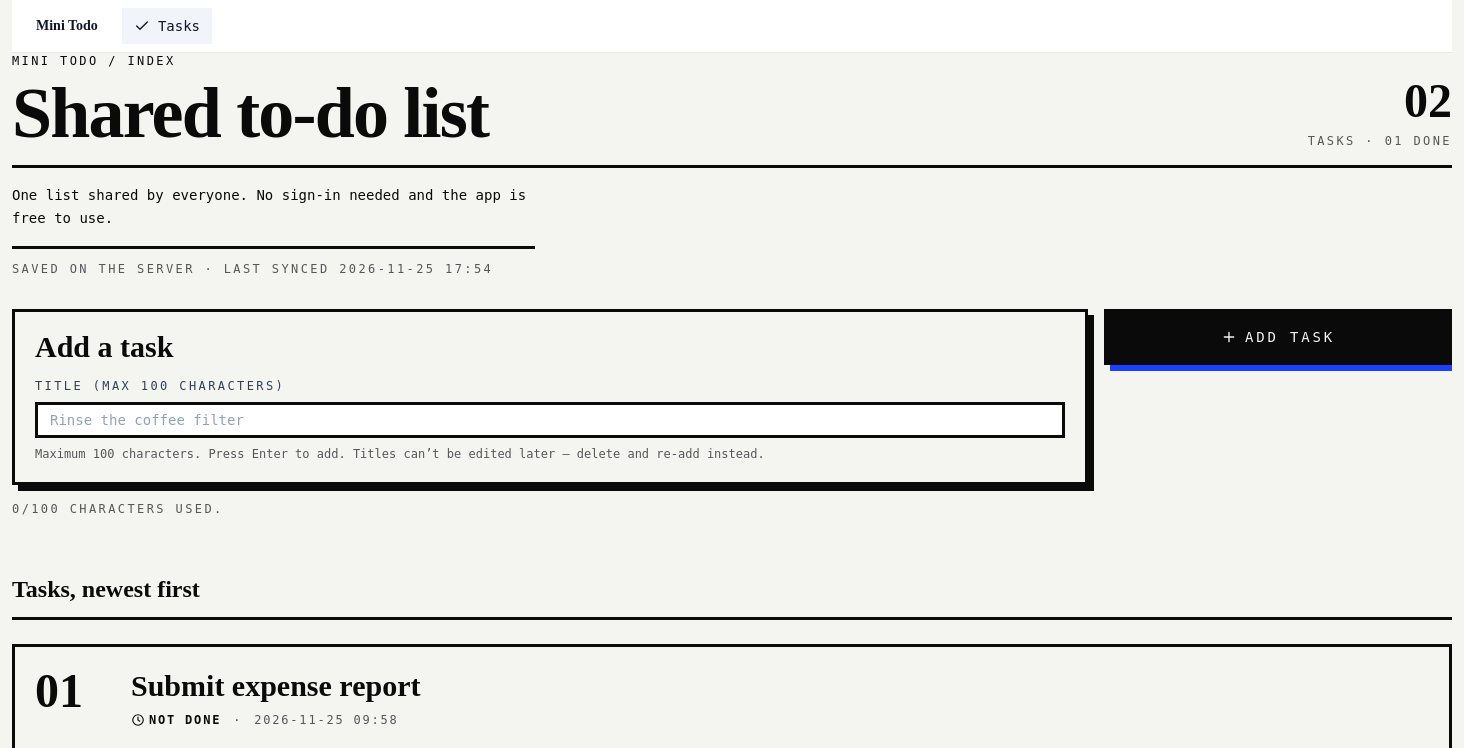
Test: App — anonymous access with no sign-in › [AC-022] adds a task immediately on the first visit with no account
Type "Refill the printer" into the field with test id "title-max-100-characters-input". click: (550, 420)
box: left=35, top=402, right=1065, bottom=438
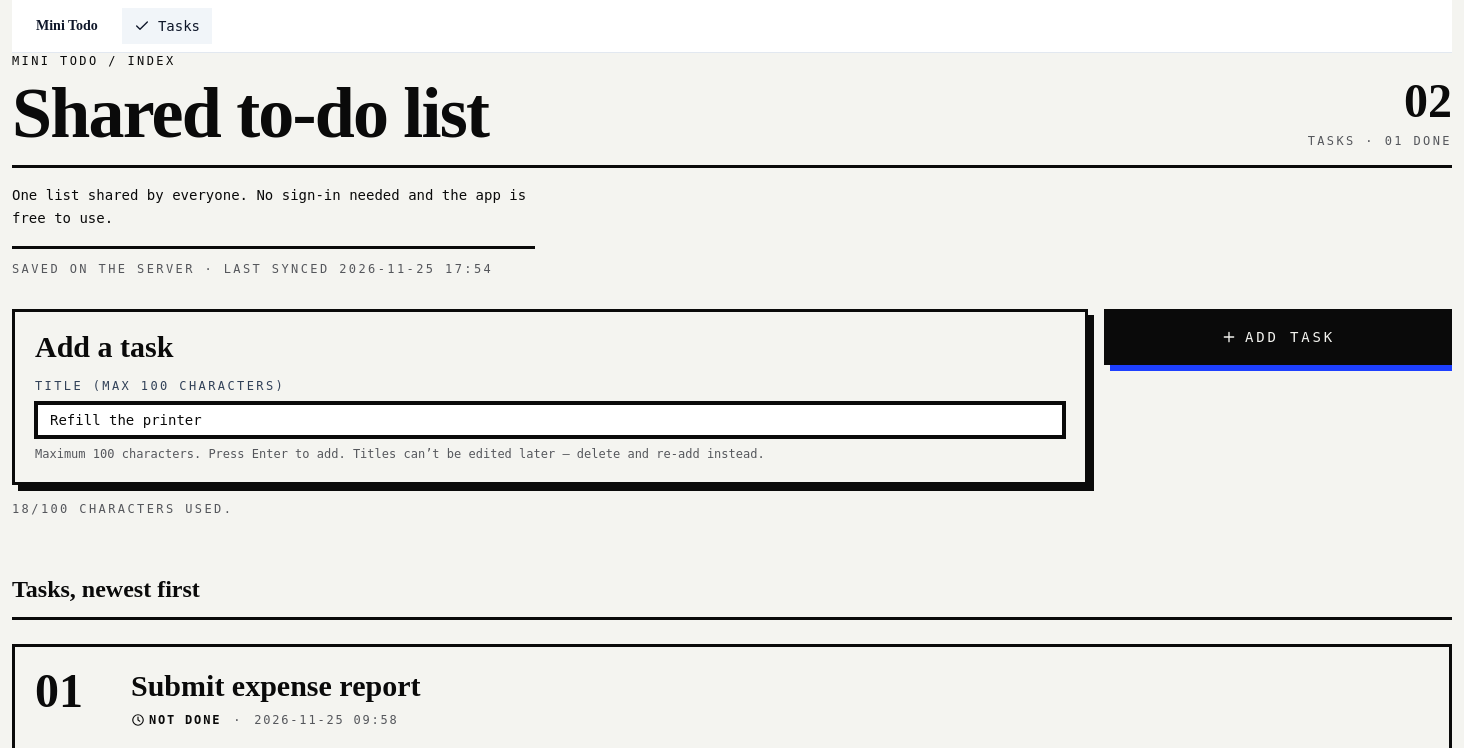
Click the button with test id "add-task-btn". click: (1278, 336)
box: left=1104, top=308, right=1452, bottom=364
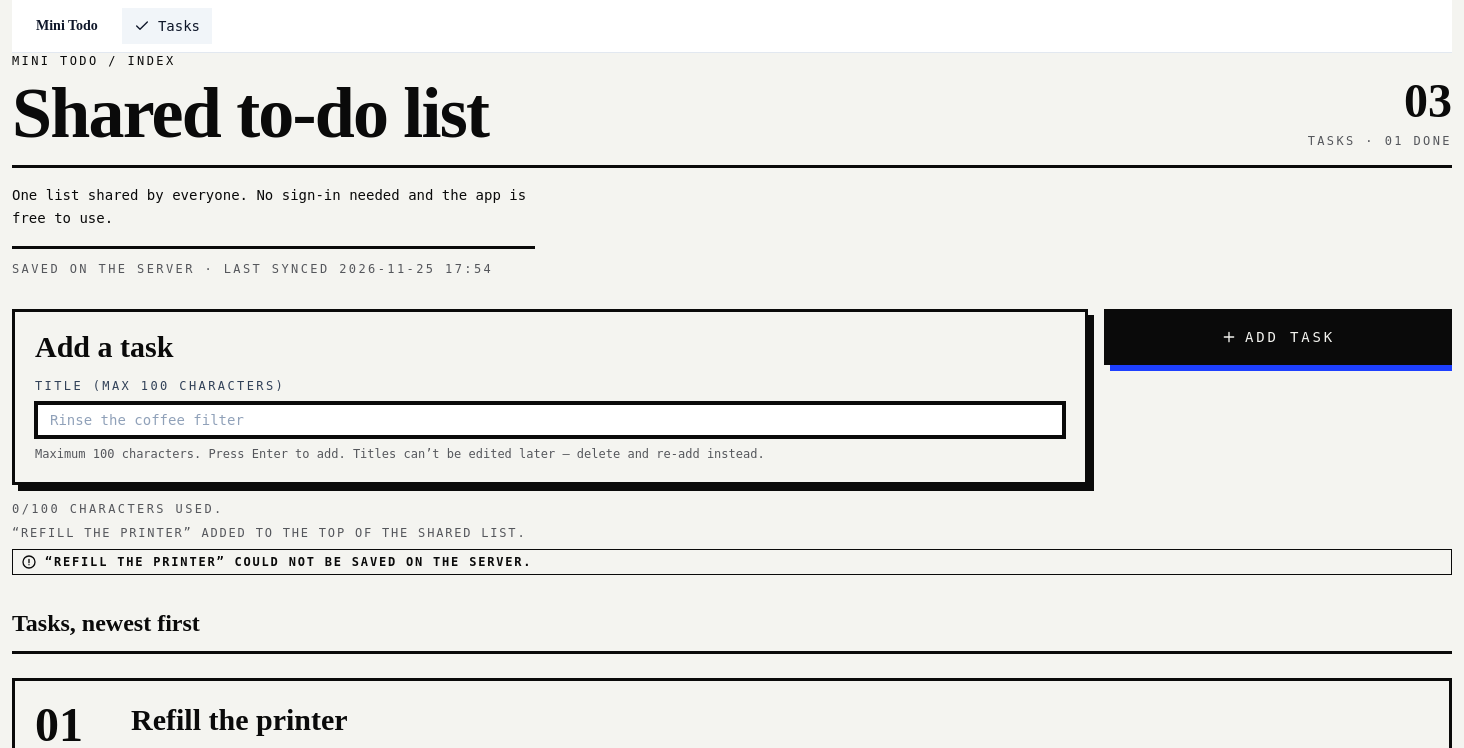
Expected: the heading "Refill the printer" is shown, left=131, top=702, right=348, bottom=736
